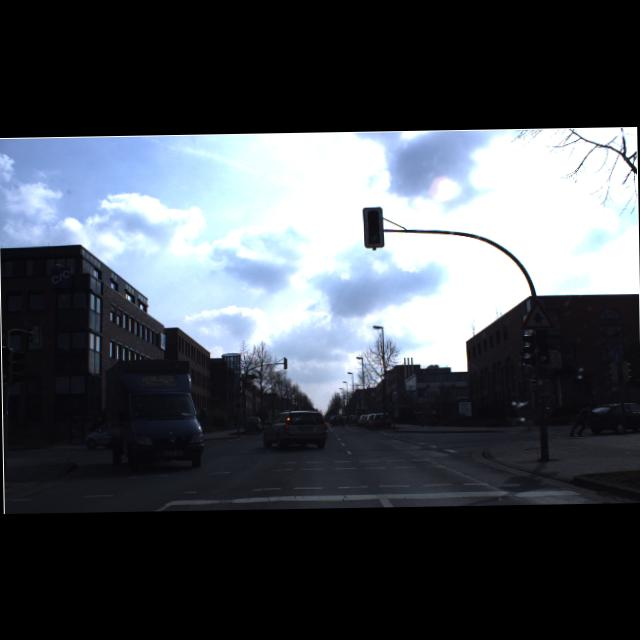danger: (520, 296, 556, 330)
